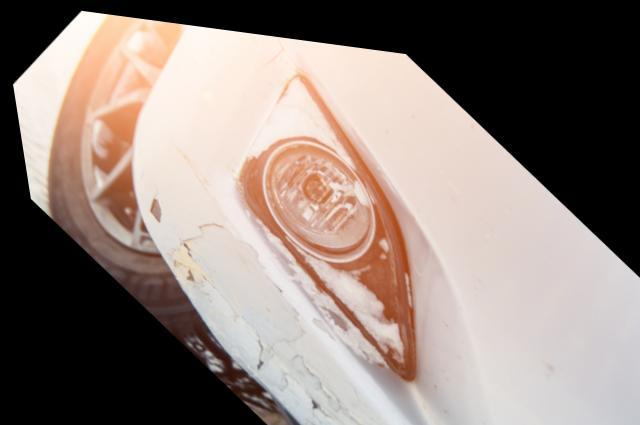scratch: (131, 141, 389, 425)
